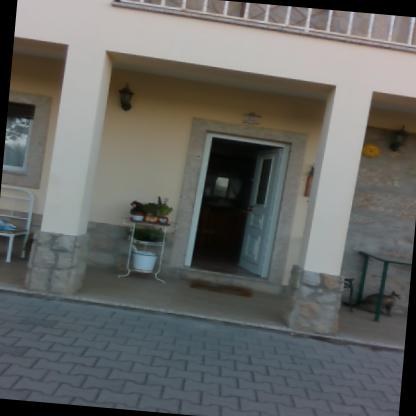open: (174, 122, 298, 291)
